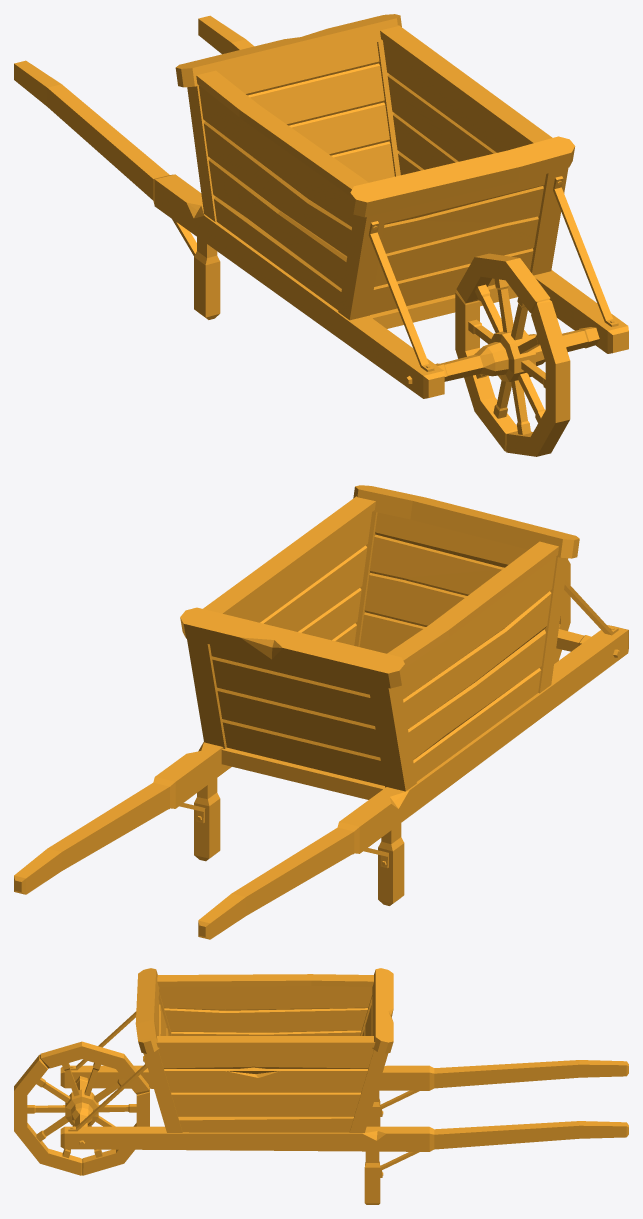
The model's file is SM_Wheelbarrow_Wooden_B.fbx.
3 views of the same model, one above another, from view 1: azimuth 30°, elevation 25°; view 2: azimuth 150°, elevation 25°; view 3: azimuth 270°, elevation 25° (orthographic). The views are drawn at different scales.
Visible parts, largest first — view 1: wheelbarrow-wooden-b-base, wheelbarrow-wooden-b-wheel; view 2: wheelbarrow-wooden-b-base, wheelbarrow-wooden-b-wheel; view 3: wheelbarrow-wooden-b-base, wheelbarrow-wooden-b-wheel.
Part boxes in pixels (x1,y1,x2,y2): wheelbarrow-wooden-b-base: [14, 14, 628, 398]; wheelbarrow-wooden-b-wheel: [405, 253, 599, 456]; wheelbarrow-wooden-b-base: [14, 485, 628, 939]; wheelbarrow-wooden-b-wheel: [554, 560, 620, 663]; wheelbarrow-wooden-b-base: [60, 968, 628, 1204]; wheelbarrow-wooden-b-wheel: [14, 1041, 149, 1175].
Size of the model in its own units: 0.5449 by 0.5924 by 1.95.
